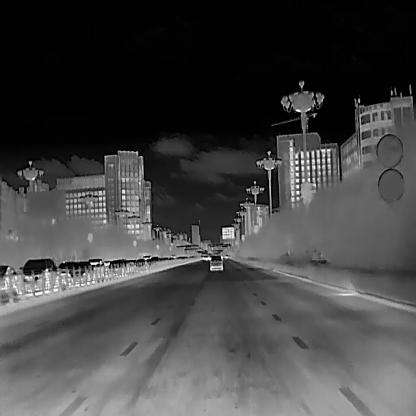car: (19, 258, 58, 294), (0, 264, 20, 299), (57, 261, 76, 285), (108, 258, 130, 278), (74, 261, 92, 284), (87, 258, 105, 280), (210, 254, 223, 270), (103, 260, 112, 277)
